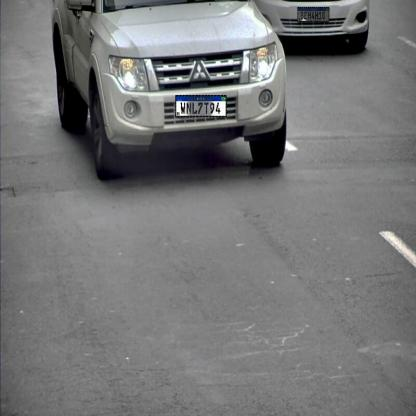PlacaM: (175, 95, 227, 117), (298, 7, 329, 21)
